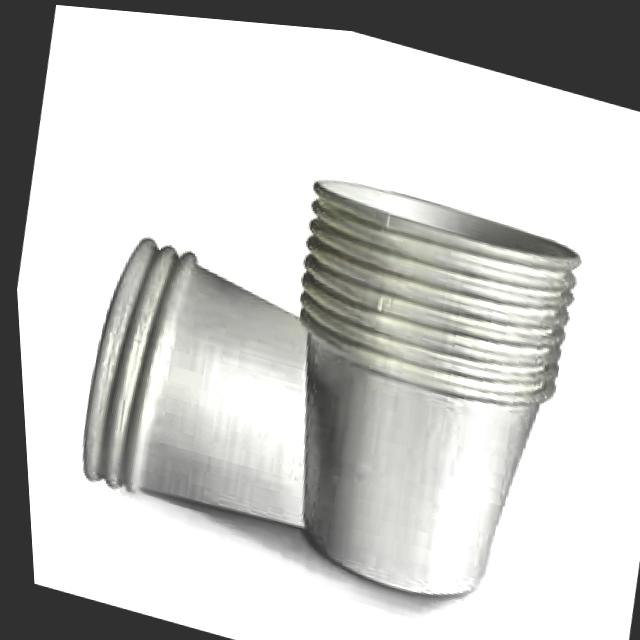Cup: (221, 152, 605, 638), (44, 192, 495, 595)
